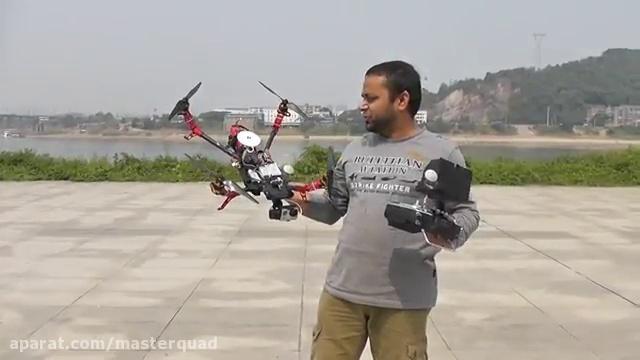drone: (160, 78, 338, 226)
